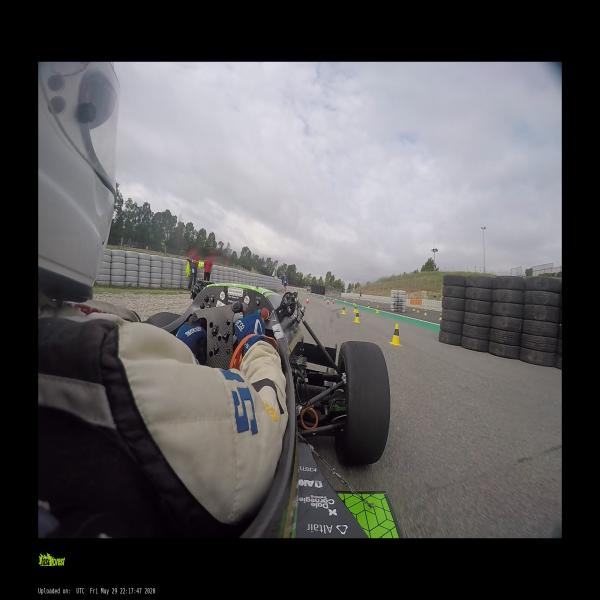orange_cone: (306, 298, 309, 304), (323, 296, 326, 301), (332, 299, 334, 305), (327, 299, 329, 305), (317, 295, 319, 298)
yellow_cone: (388, 324, 402, 345), (353, 310, 360, 324), (341, 305, 346, 314), (423, 309, 427, 316), (353, 305, 357, 312), (375, 307, 379, 313), (438, 314, 442, 320), (416, 307, 419, 313), (352, 300, 355, 305), (412, 307, 415, 311), (376, 305, 378, 311), (367, 304, 369, 308), (344, 298, 346, 302)
